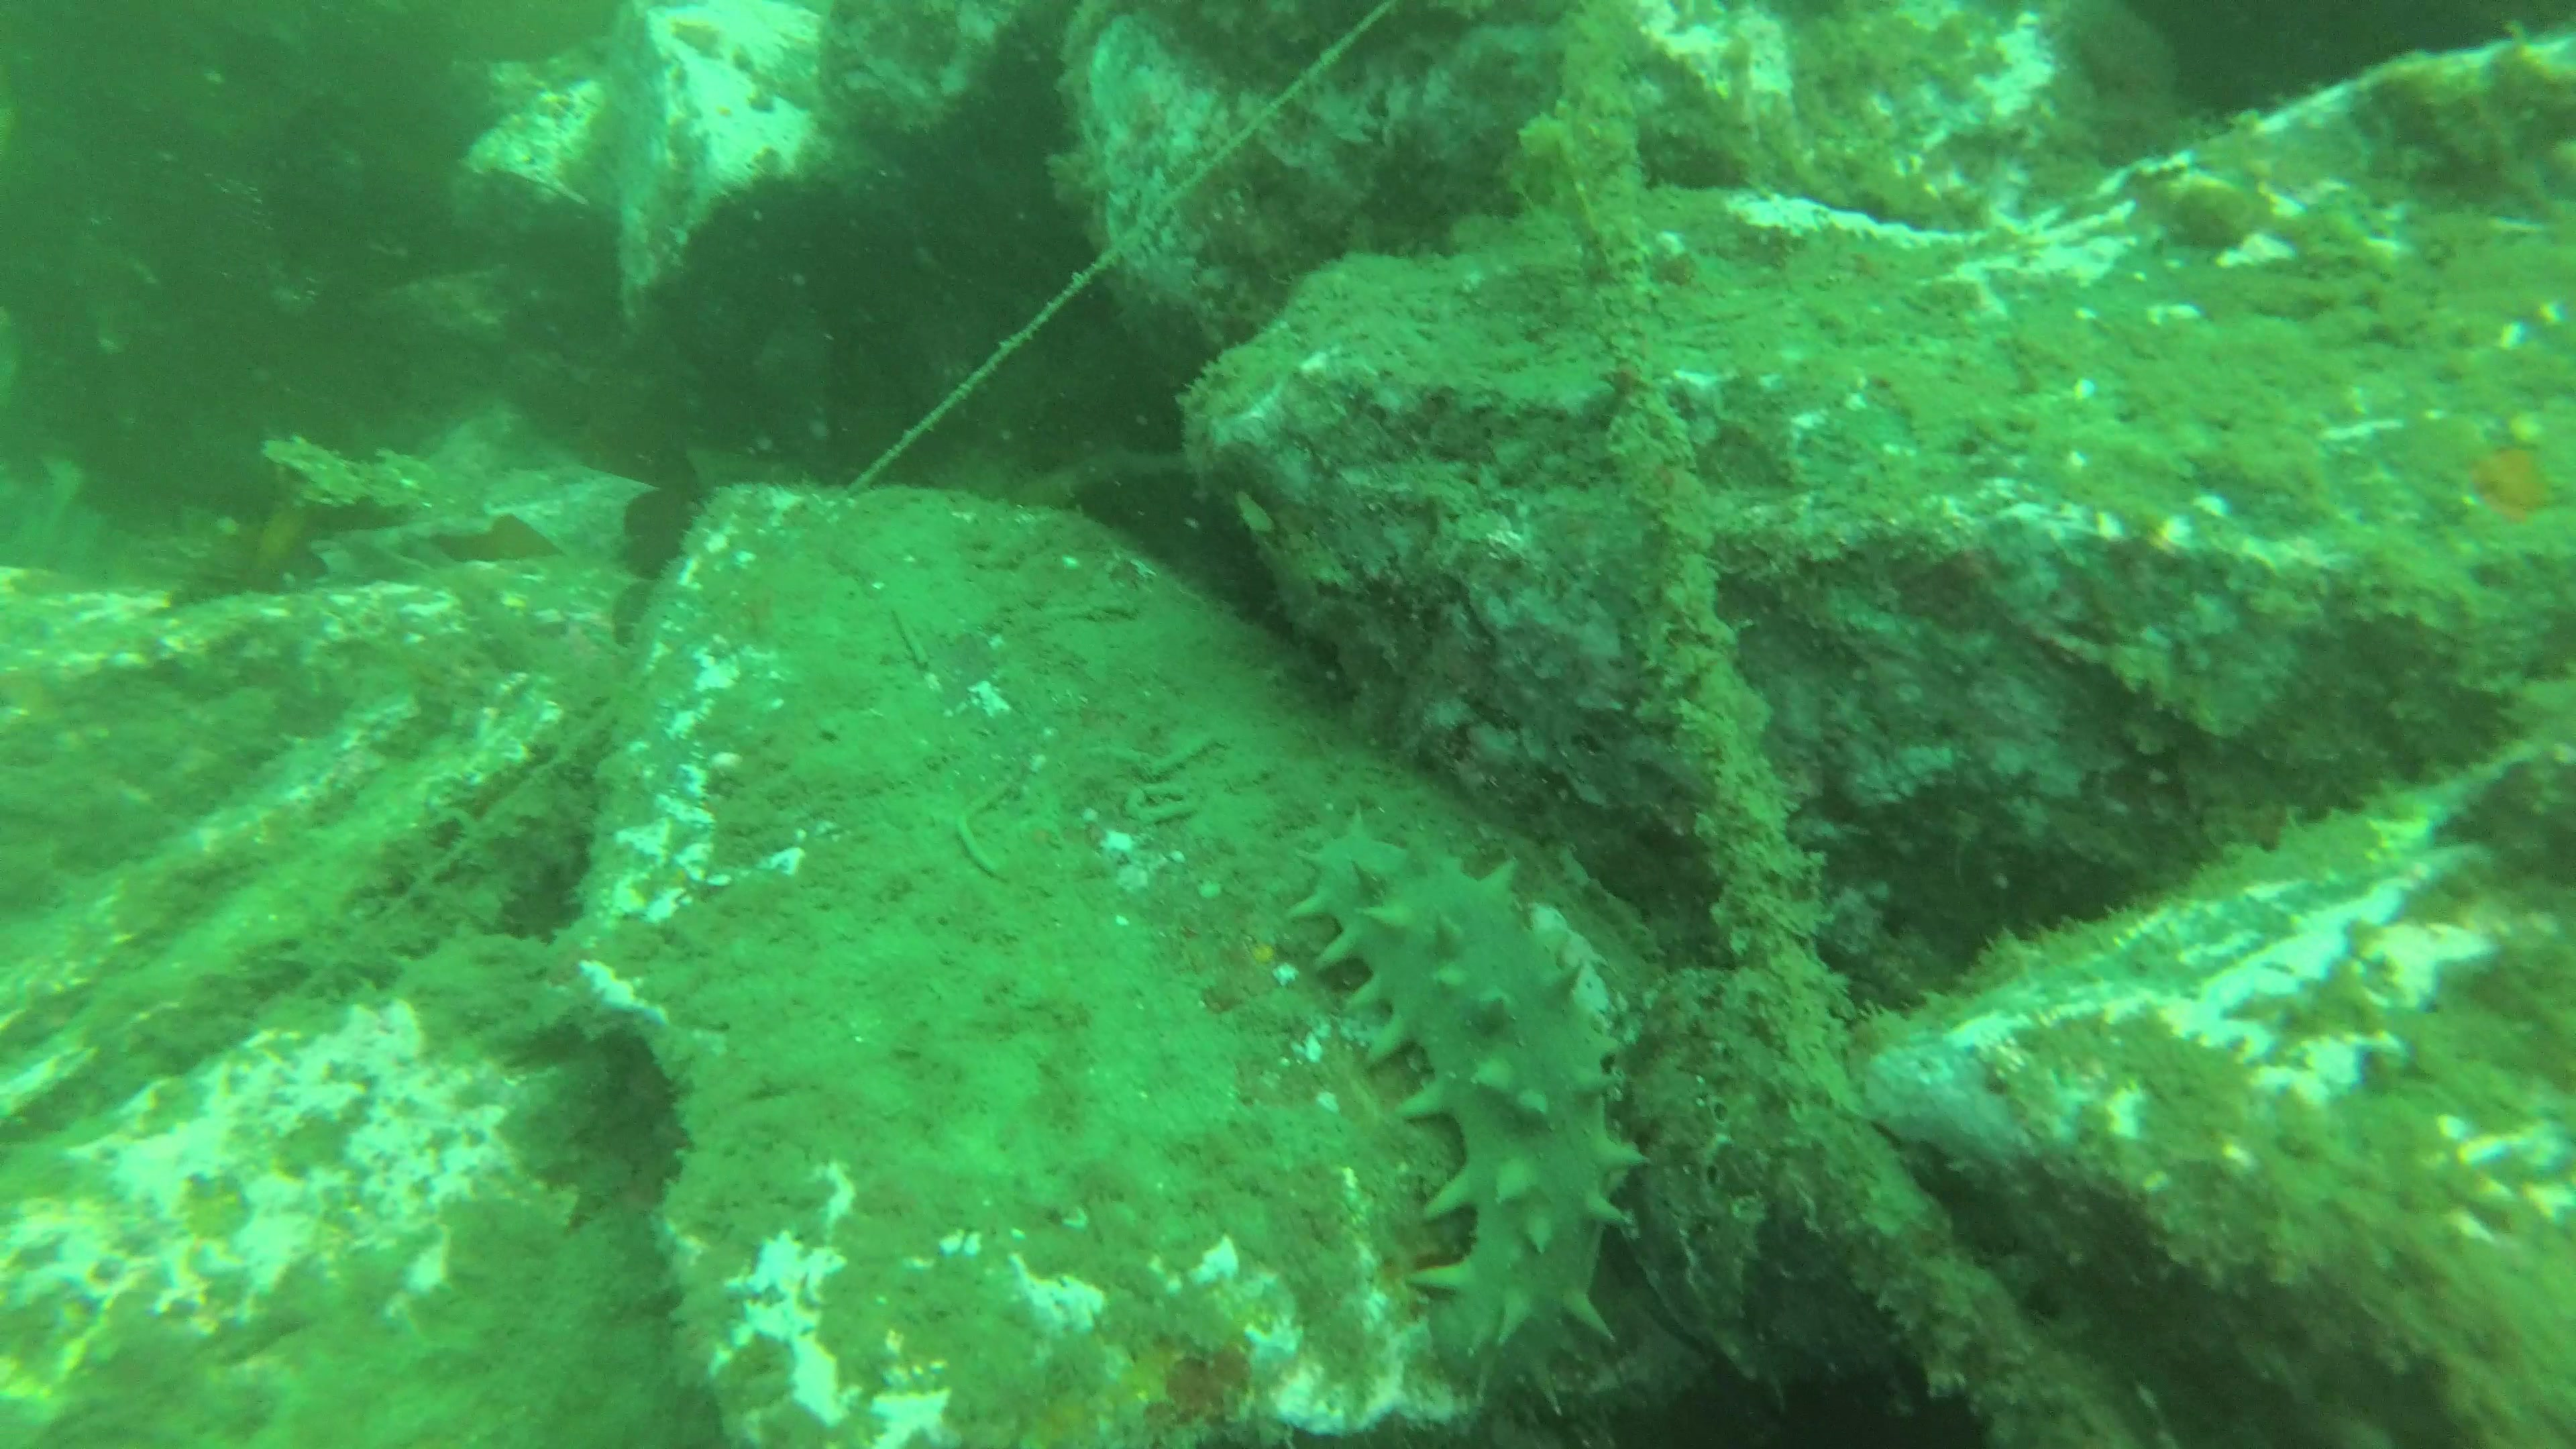holothurian: (1286, 810, 1649, 1359)
